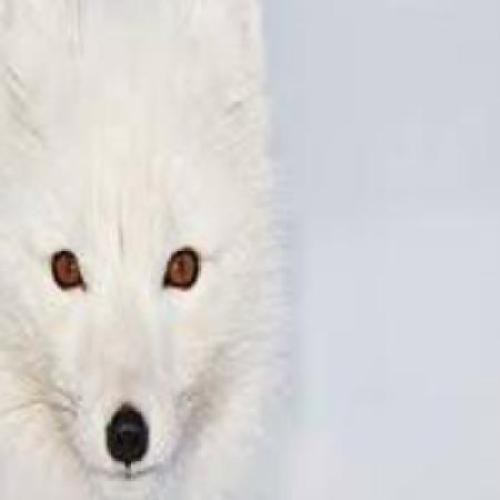arctic_fox-endangered: (0, 0, 285, 500)
